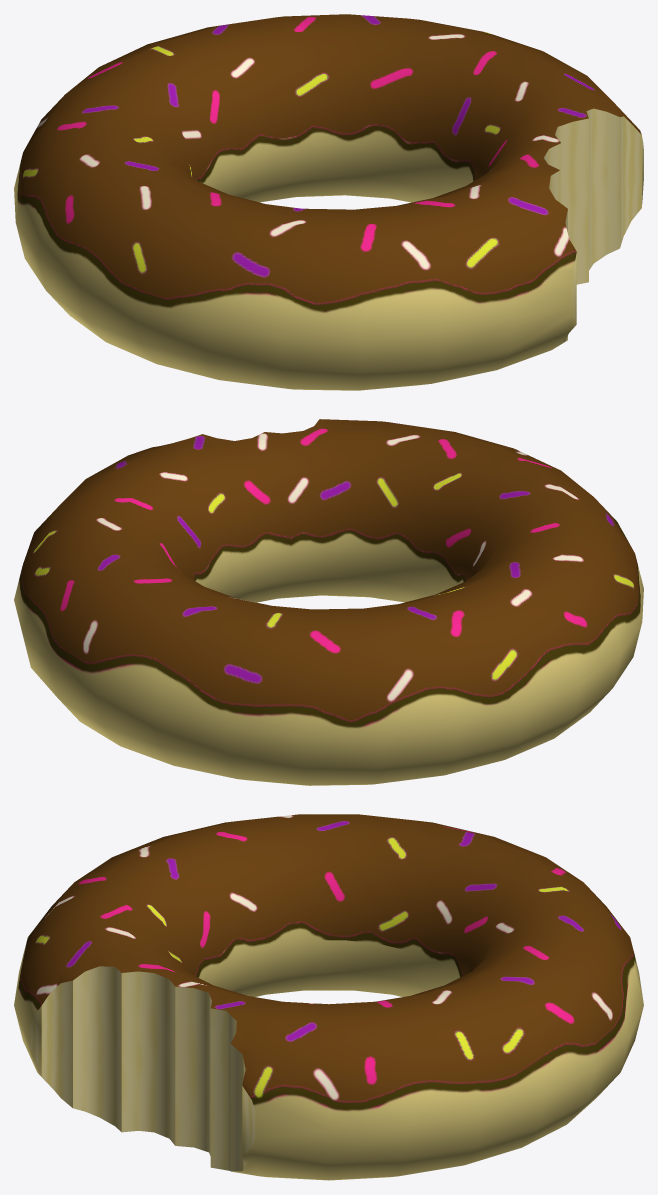
File: donut_brown.dae
3 renders of one model, top to bottom at view 1: azimuth 30°, elevation 25°; view 2: azimuth 150°, elevation 25°; view 3: azimuth 270°, elevation 25°, orthographic. The views are drawn at different scales.
Visible parts, largest first — view 1: Symmetrie.1; view 2: Symmetrie.1; view 3: Symmetrie.1.
Part boxes in pixels (box(x1,y1,x2,y2)): Symmetrie.1: box(14, 14, 643, 390); Symmetrie.1: box(14, 419, 643, 785); Symmetrie.1: box(14, 814, 643, 1180).
Size of the model in its own units: 55.78 by 15.6 by 55.89.
1 material, 1 textured.
